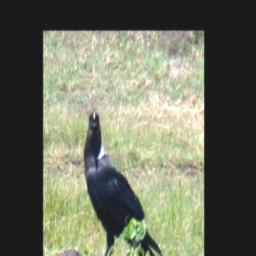Crow: (83, 108, 164, 256)
